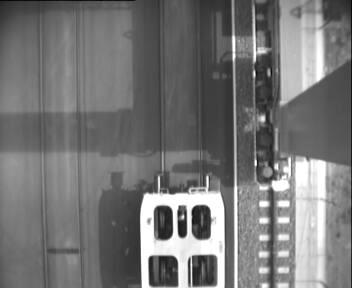Copy of Copy of wagon_scan: (149, 202, 215, 242)
